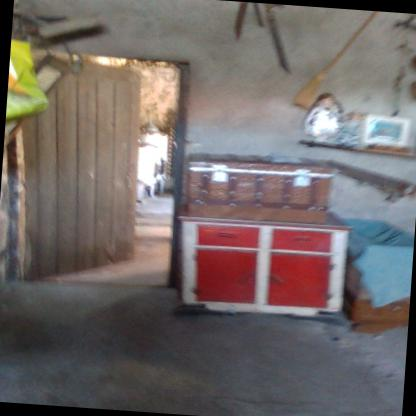semi: (10, 40, 212, 300)
